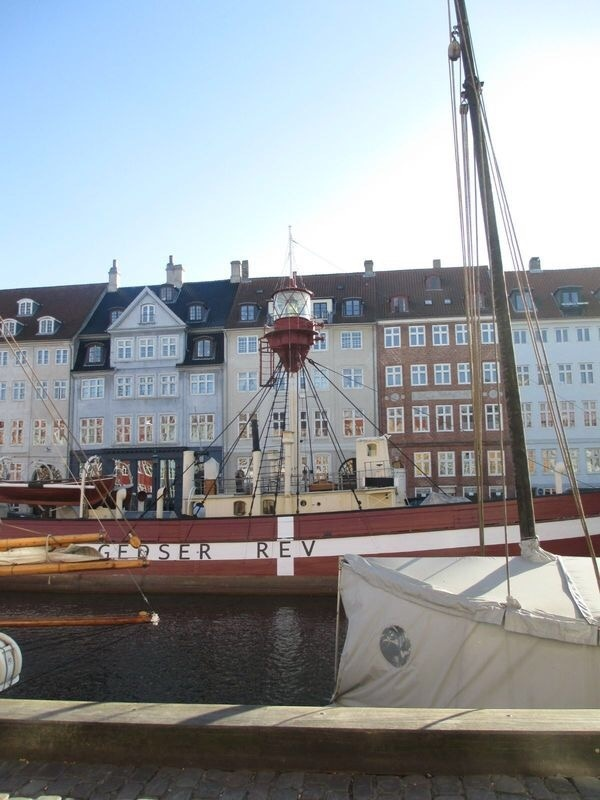text: (273, 541, 288, 559), (289, 541, 304, 559), (258, 541, 272, 559), (113, 545, 128, 561), (129, 545, 144, 561), (145, 545, 160, 561), (161, 545, 176, 561), (177, 545, 192, 561), (193, 545, 208, 561), (99, 545, 112, 561), (305, 541, 316, 559), (209, 545, 213, 561)
